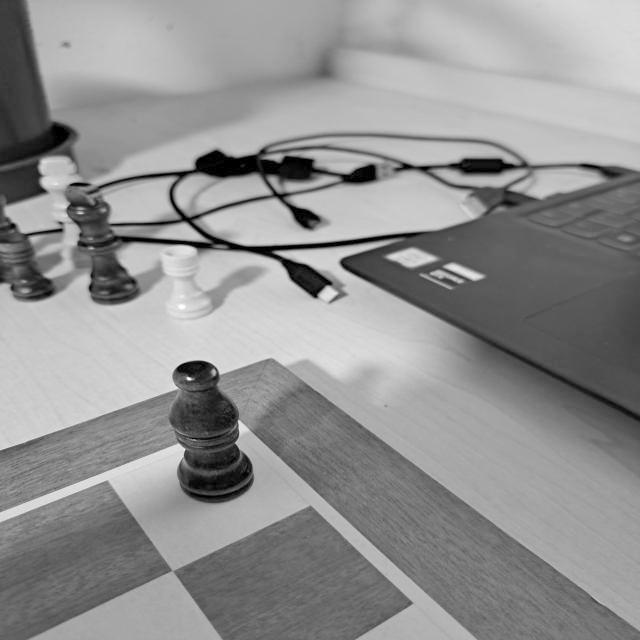chess-table-corners: (186, 412, 281, 464)
